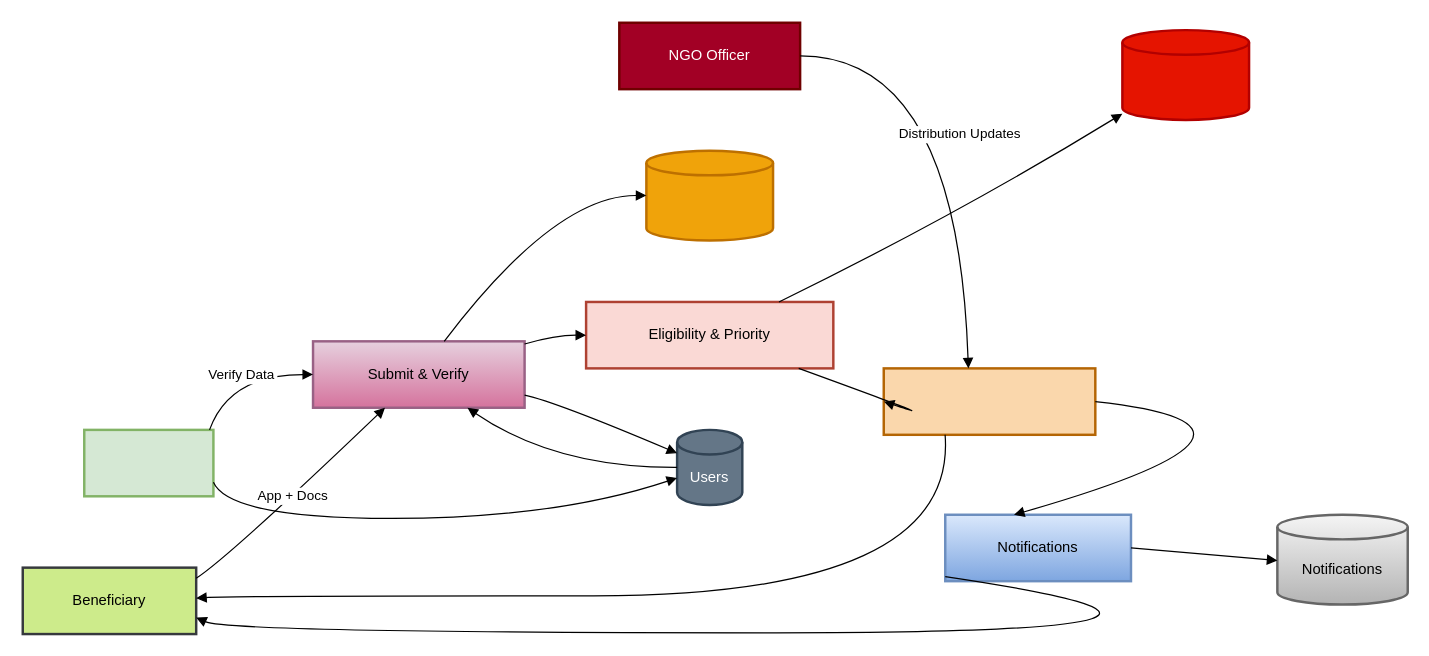
This 1429x656 diagram has some shape labels left out. The centre of each missing label's shape, as x and y in pixels:
"Admin" goes at point 148,462.
"Aid Distribution" goes at point 989,401.
"Applications" goes at point 709,195.
"Transactions" goes at point 1185,74.
